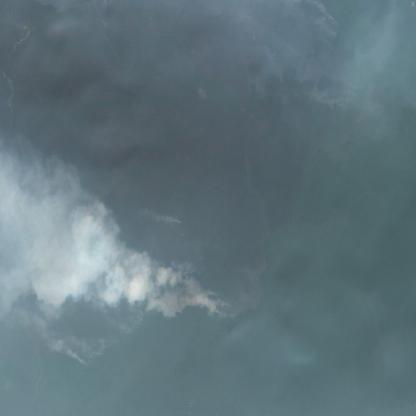fire: (66, 208, 250, 369), (290, 0, 364, 112)
